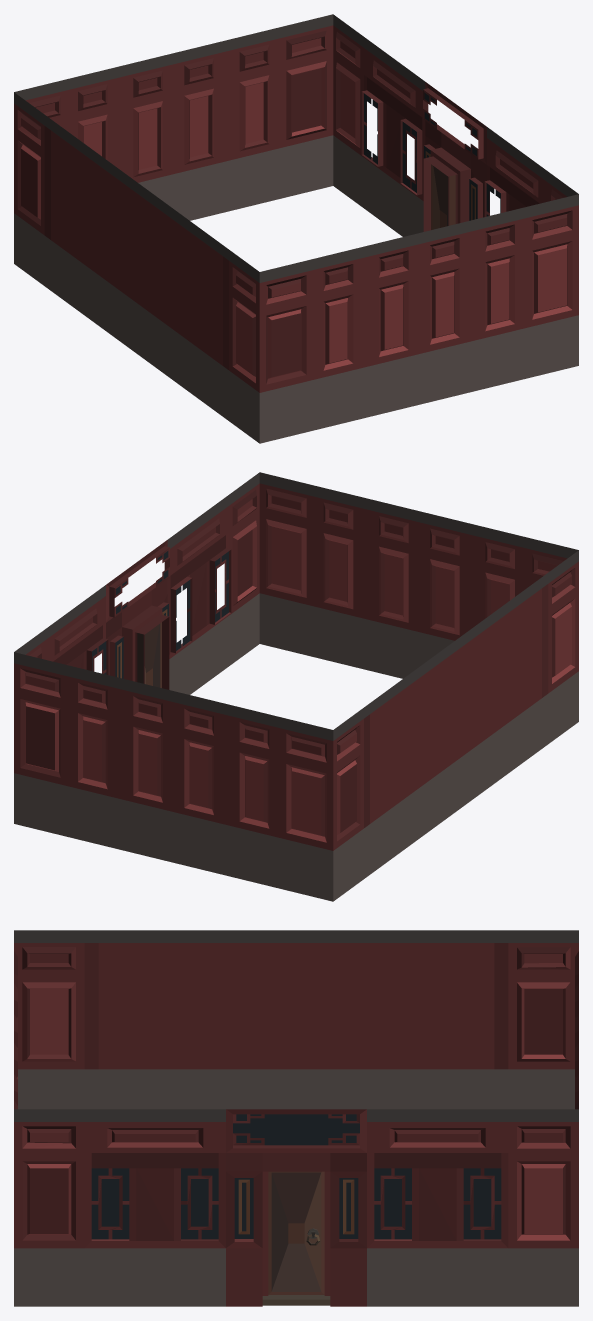
Rendered from BuildingA-Sm_D.fbx.
The picture shows the model from 3 angles, top to bottom: view 1: azimuth 30°, elevation 25°; view 2: azimuth 150°, elevation 25°; view 3: azimuth 270°, elevation 25°; orthographic projection. The views are drawn at different scales.
Visible parts, largest first — view 1: BuildingA-Sm_D; view 2: BuildingA-Sm_D; view 3: BuildingA-Sm_D.
Boxes of the visible parts, bbox=[...] form: BuildingA-Sm_D: bbox=[14, 14, 578, 443]; BuildingA-Sm_D: bbox=[14, 472, 578, 901]; BuildingA-Sm_D: bbox=[14, 930, 578, 1306].
Size of the model in its own units: 750 by 386 by 1000.
